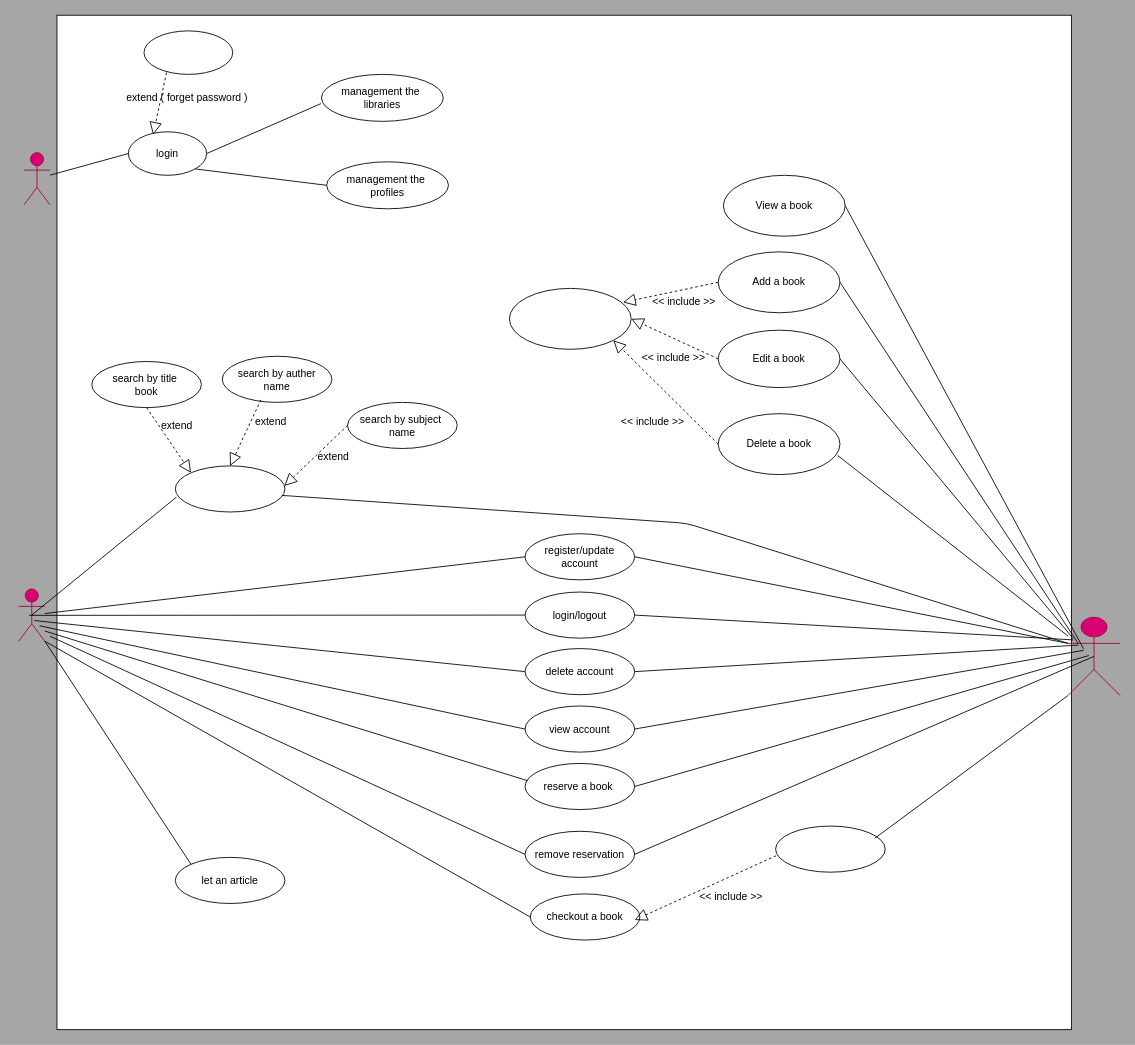
The diagram is 1135 pixels wide and 1045 high, and some of its shapes have lost their labels. The shapes that lost their labels are listed below. From the top down, each one's centre as x and y in pixels, then its label:
At (x=188, y=52): "authentification".
At (x=36, y=178): "admin".
At (x=570, y=318): "Update a catalog".
At (x=229, y=488): "search catagol".
At (x=31, y=614): "Reader".
At (x=1093, y=656): "librarian".
At (x=830, y=848): "issue book".
